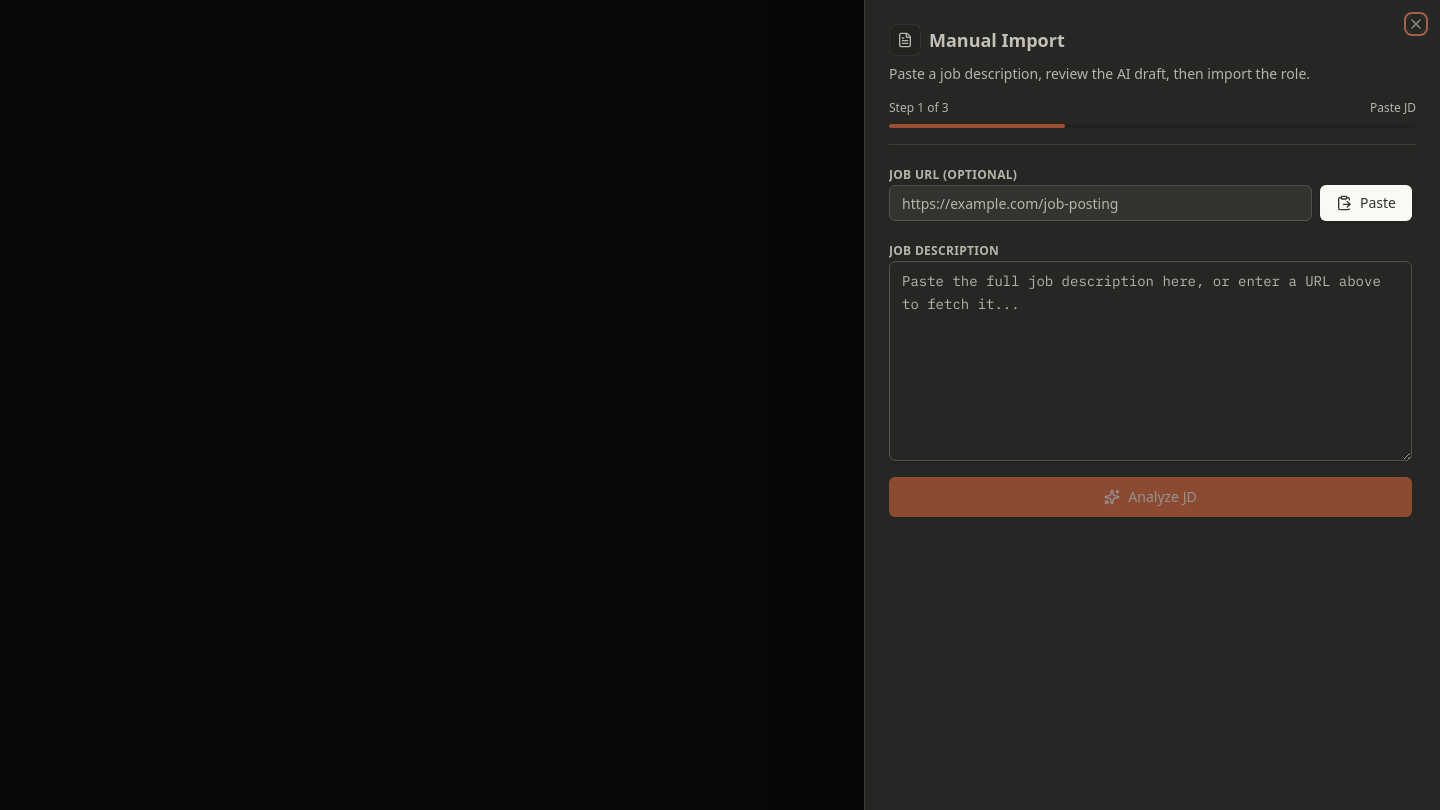
Test: ManualImportSheet › URL fetch functionality › shows error when inference fails after fetch
Type "https://example.com/job" into the field with placeholder "https://example.com/job-posting".
click(1100, 203); type("https://example.com/job")  # box x1=889 y1=185 x2=1312 y2=221
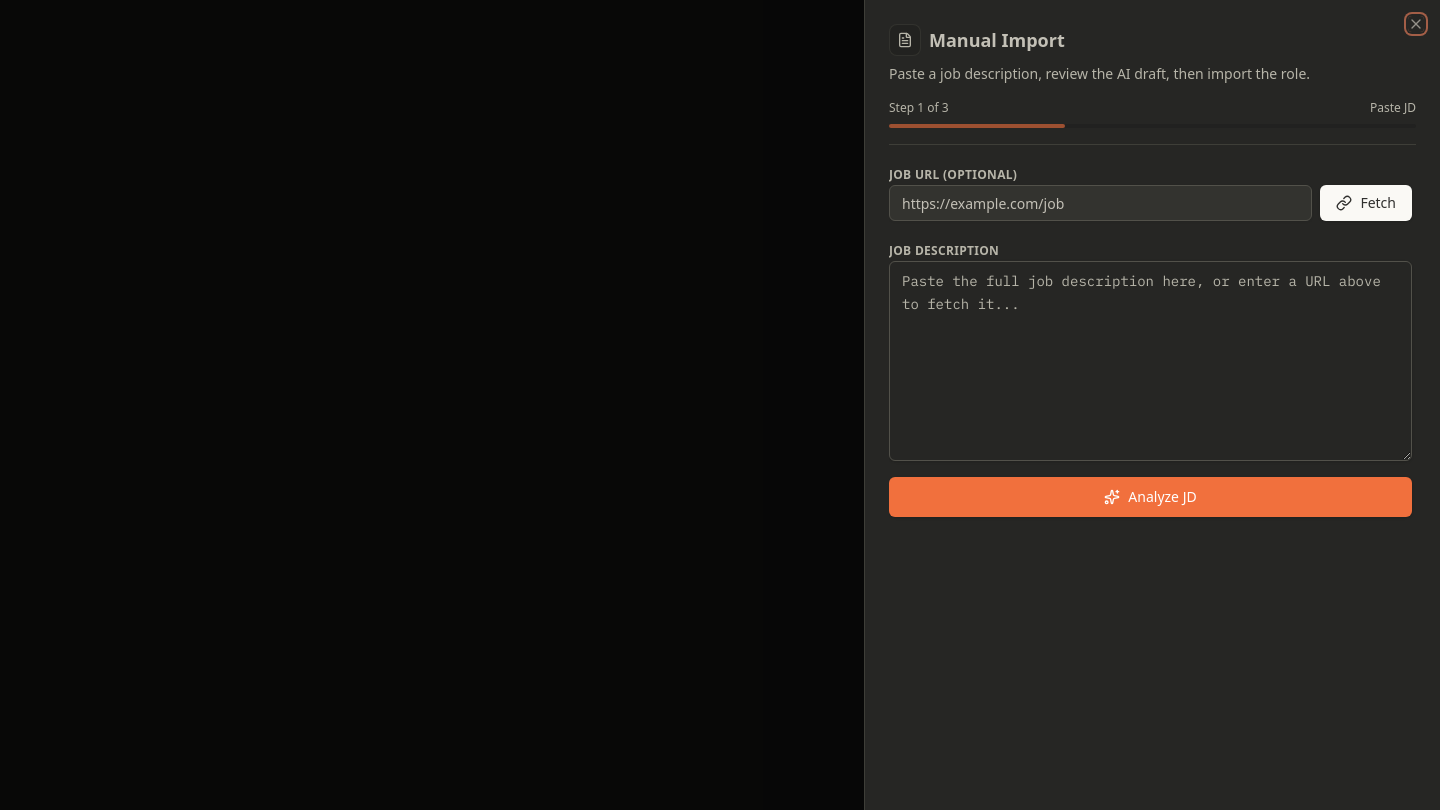
Click the button "Fetch".
click(1366, 203)  # box x1=1320 y1=185 x2=1412 y2=221
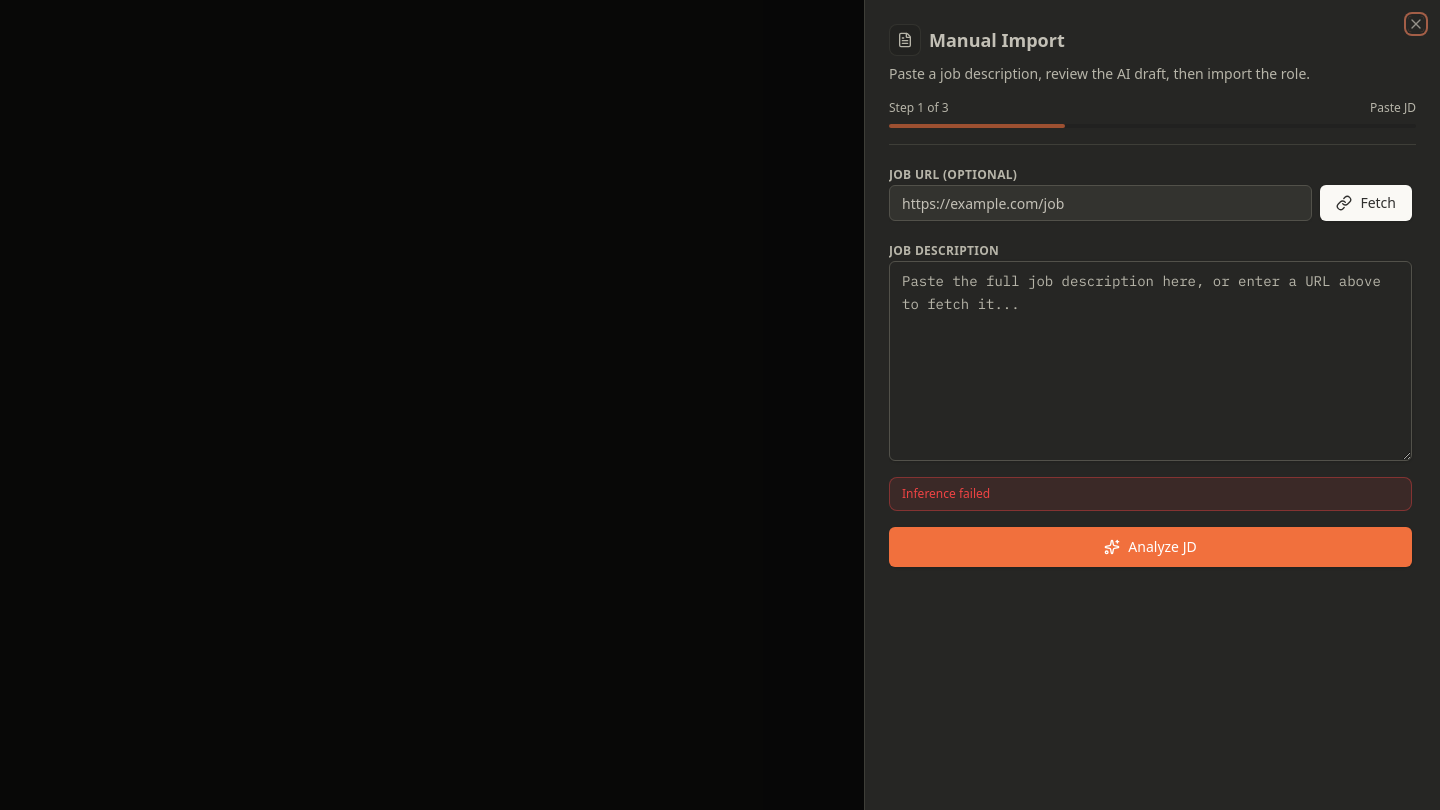
Expected: the text box with placeholder "Paste the full job description here, or enter a URL above to fetch it..." is shown, x1=889 y1=261 x2=1412 y2=461
Now the text "Inference failed" is shown, box x1=889 y1=477 x2=1412 y2=511
